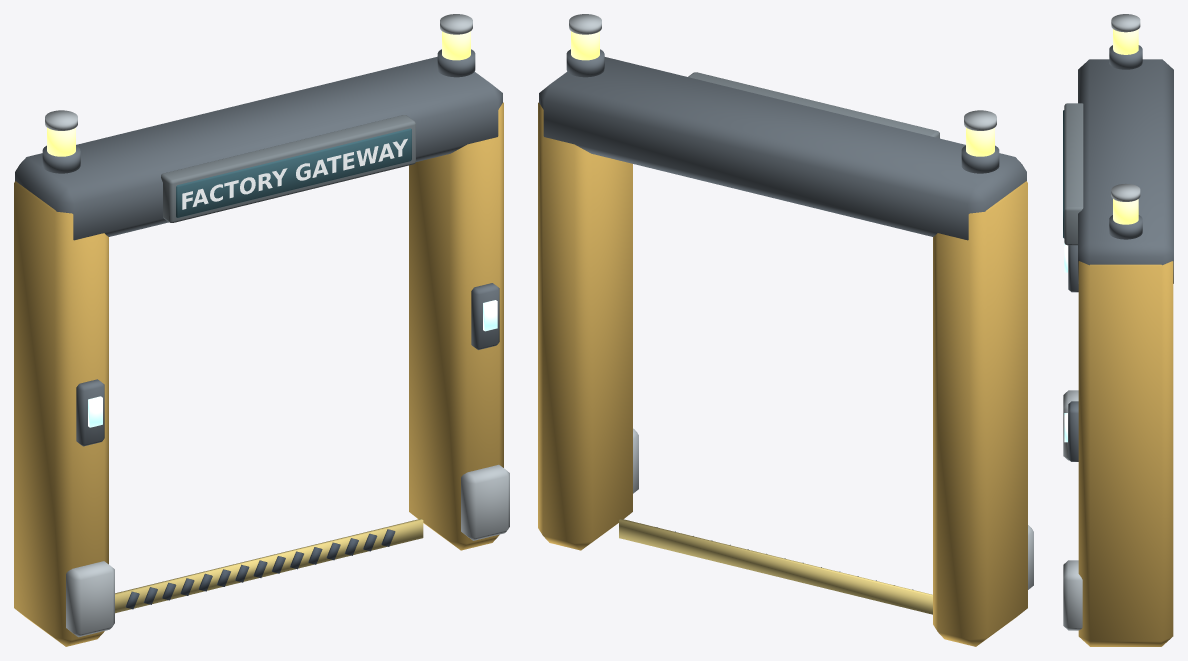
File: factory_gateway_ultra.glb
3 views of the same model, side by side, from view 1: azimuth 30°, elevation 25°; view 2: azimuth 150°, elevation 25°; view 3: azimuth 270°, elevation 25° (orthographic). The views are drawn at different scales.
Visible parts, largest first — view 1: Pillar_orange_legacy_0, Header_dark_legacy_4, Footing_steel_legacy_11, SignPlate_glass, ScreenMount_frame, Detail_yellow_legacy_9, AccessPanel_dark_legacy_12, Detail_black_legacy_10, TypeLabel_white, StatusLight_warn_legacy_2, Beacon_dark_legacy_1, Beacon_steel_legacy_3 (+1 smaller); view 2: Pillar_orange_legacy_0, Header_dark_legacy_4, Detail_yellow_legacy_9, ScreenMount_frame, StatusLight_warn_legacy_2, Beacon_dark_legacy_1, Beacon_steel_legacy_3, Footing_steel_legacy_11; view 3: Pillar_orange_legacy_0, Header_dark_legacy_4, ScreenMount_frame, Footing_steel_legacy_11, StatusLight_warn_legacy_2, Beacon_dark_legacy_1, AccessPanel_dark_legacy_12, Beacon_steel_legacy_3, SignPlate_glass, StatusLight_glow_legacy_13.
Part boxes in pixels (bbox=[...]): Pillar_orange_legacy_0: bbox=[14, 102, 503, 646]; Header_dark_legacy_4: bbox=[15, 56, 502, 240]; Footing_steel_legacy_11: bbox=[66, 464, 509, 637]; SignPlate_glass: bbox=[176, 128, 411, 217]; ScreenMount_frame: bbox=[161, 115, 415, 222]; Detail_yellow_legacy_9: bbox=[115, 518, 423, 613]; AccessPanel_dark_legacy_12: bbox=[76, 283, 499, 446]; Detail_black_legacy_10: bbox=[125, 529, 395, 609]; TypeLabel_white: bbox=[182, 138, 407, 209]; StatusLight_warn_legacy_2: bbox=[47, 31, 470, 156]; Beacon_dark_legacy_1: bbox=[42, 49, 475, 173]; Beacon_steel_legacy_3: bbox=[45, 14, 472, 130]; Pillar_orange_legacy_0: bbox=[538, 102, 1027, 646]; Header_dark_legacy_4: bbox=[539, 57, 1026, 240]; Detail_yellow_legacy_9: bbox=[619, 518, 932, 614]; ScreenMount_frame: bbox=[688, 72, 939, 138]; StatusLight_warn_legacy_2: bbox=[571, 31, 994, 156]; Beacon_dark_legacy_1: bbox=[566, 49, 999, 173]; Beacon_steel_legacy_3: bbox=[569, 14, 996, 130]; Footing_steel_legacy_11: bbox=[633, 428, 1033, 589]; Pillar_orange_legacy_0: bbox=[1078, 261, 1173, 646]; Header_dark_legacy_4: bbox=[1078, 59, 1173, 283]; ScreenMount_frame: bbox=[1064, 103, 1083, 245]; Footing_steel_legacy_11: bbox=[1063, 390, 1082, 630]; StatusLight_warn_legacy_2: bbox=[1113, 29, 1138, 224]; Beacon_dark_legacy_1: bbox=[1109, 45, 1142, 239]; AccessPanel_dark_legacy_12: bbox=[1068, 245, 1078, 461]; Beacon_steel_legacy_3: bbox=[1111, 14, 1140, 201]; SignPlate_glass: bbox=[1063, 110, 1064, 238]; StatusLight_glow_legacy_13: bbox=[1064, 243, 1067, 442].
Size of the model in its own units: 3.14 by 3.41 by 0.769.
